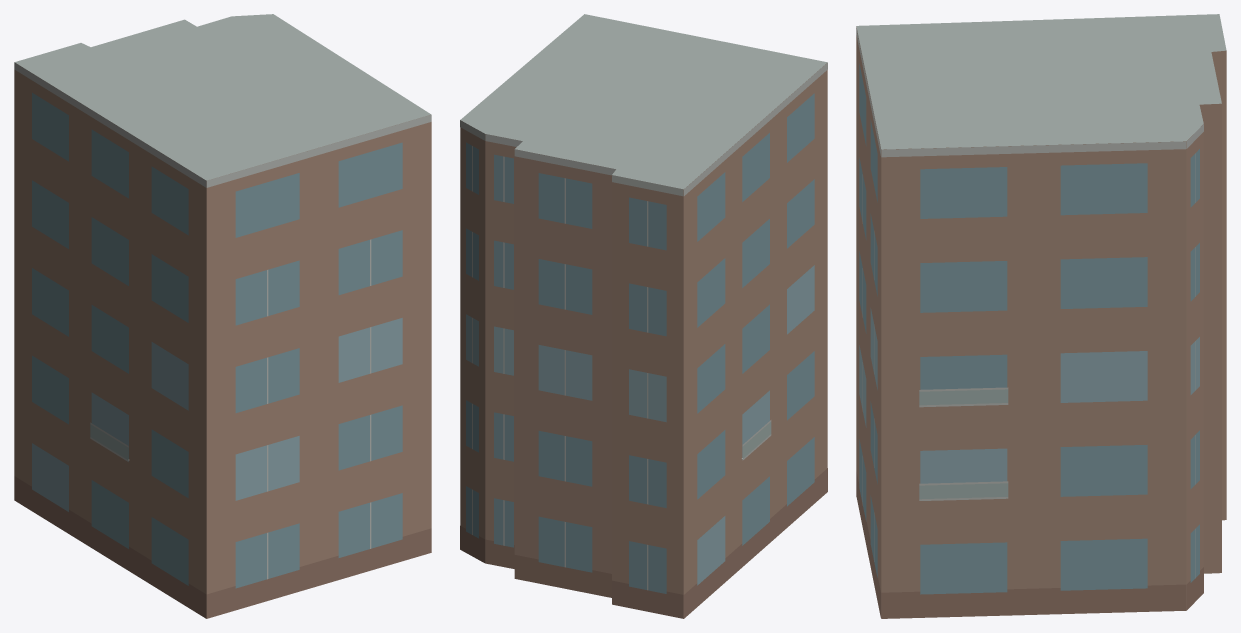
The model's file is survey-upis-32562313.glb.
3 views of the same model, side by side, from view 1: azimuth 30°, elevation 25°; view 2: azimuth 150°, elevation 25°; view 3: azimuth 270°, elevation 25° (orthographic). The views are drawn at different scales.
Visible parts, largest first — view 1: survey-upis-32562313.tmp; view 2: survey-upis-32562313.tmp; view 3: survey-upis-32562313.tmp.
Part boxes in pixels (box(x1,y1,x2,y2)): survey-upis-32562313.tmp: box(14, 14, 431, 618); survey-upis-32562313.tmp: box(460, 14, 827, 618); survey-upis-32562313.tmp: box(856, 14, 1226, 618).
Size of the model in its own units: 9.11 by 14.7 by 10.52.
